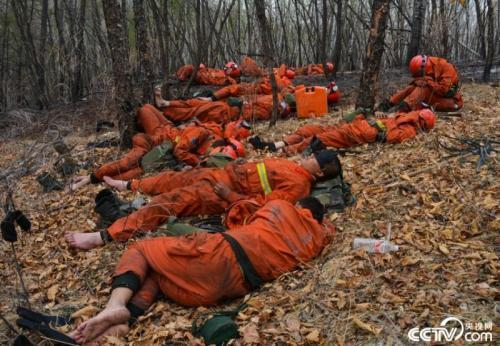Fall-Detected: (97, 98, 236, 177)
